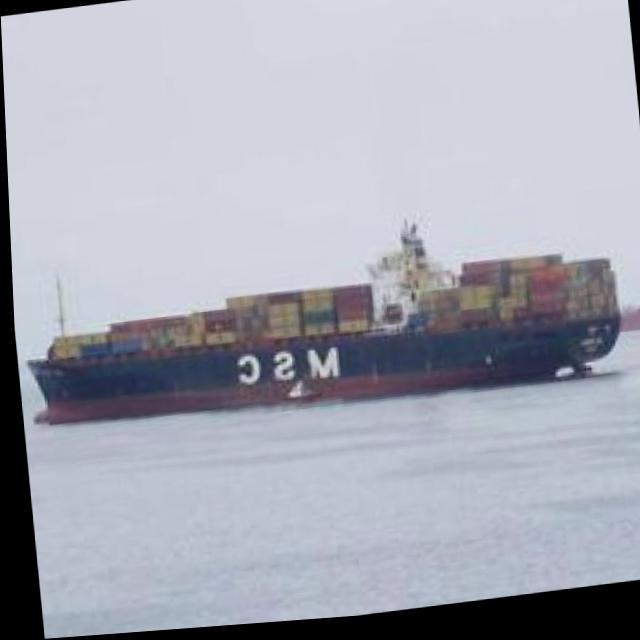ship2: (20, 224, 618, 428)
